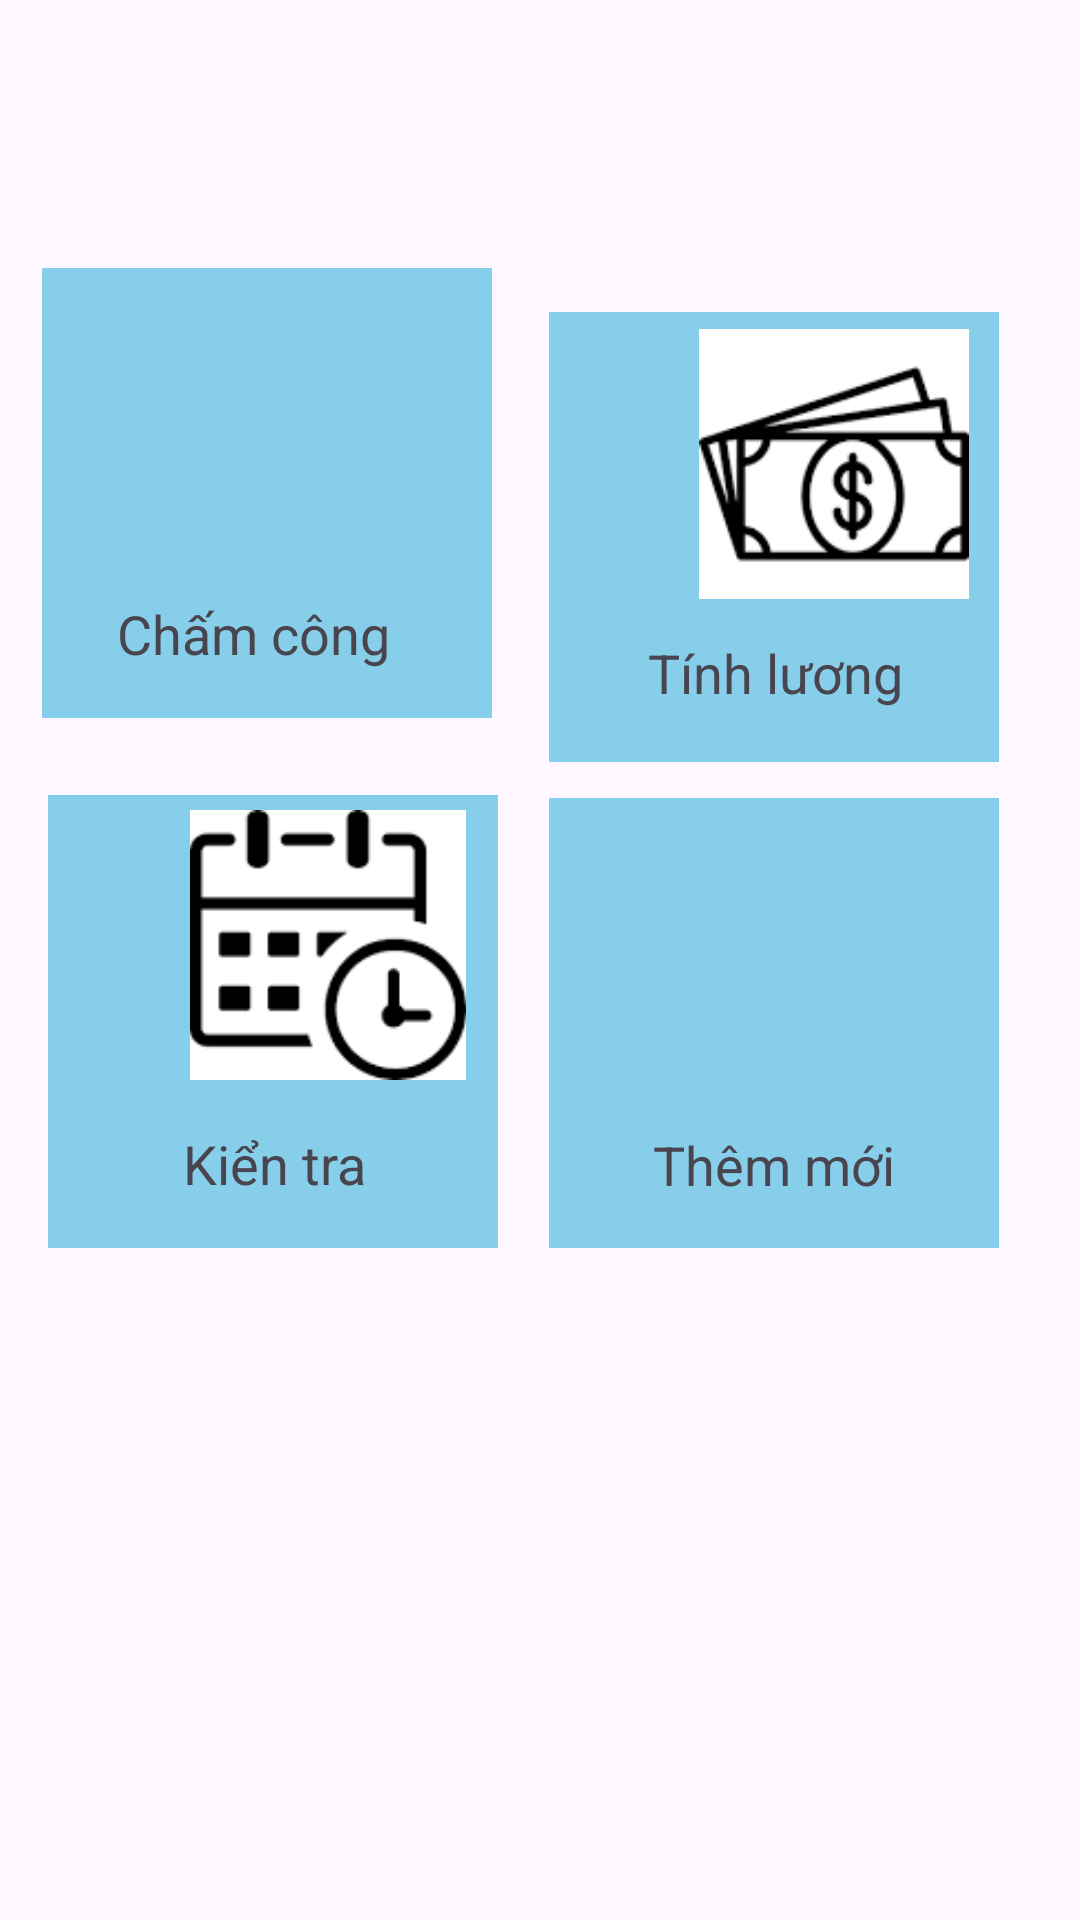

Where icons sit on this 1080*1920 app screen, as (x1, y1, x2, y2):
date: (190, 810, 466, 1080)
tien: (699, 329, 969, 599)
